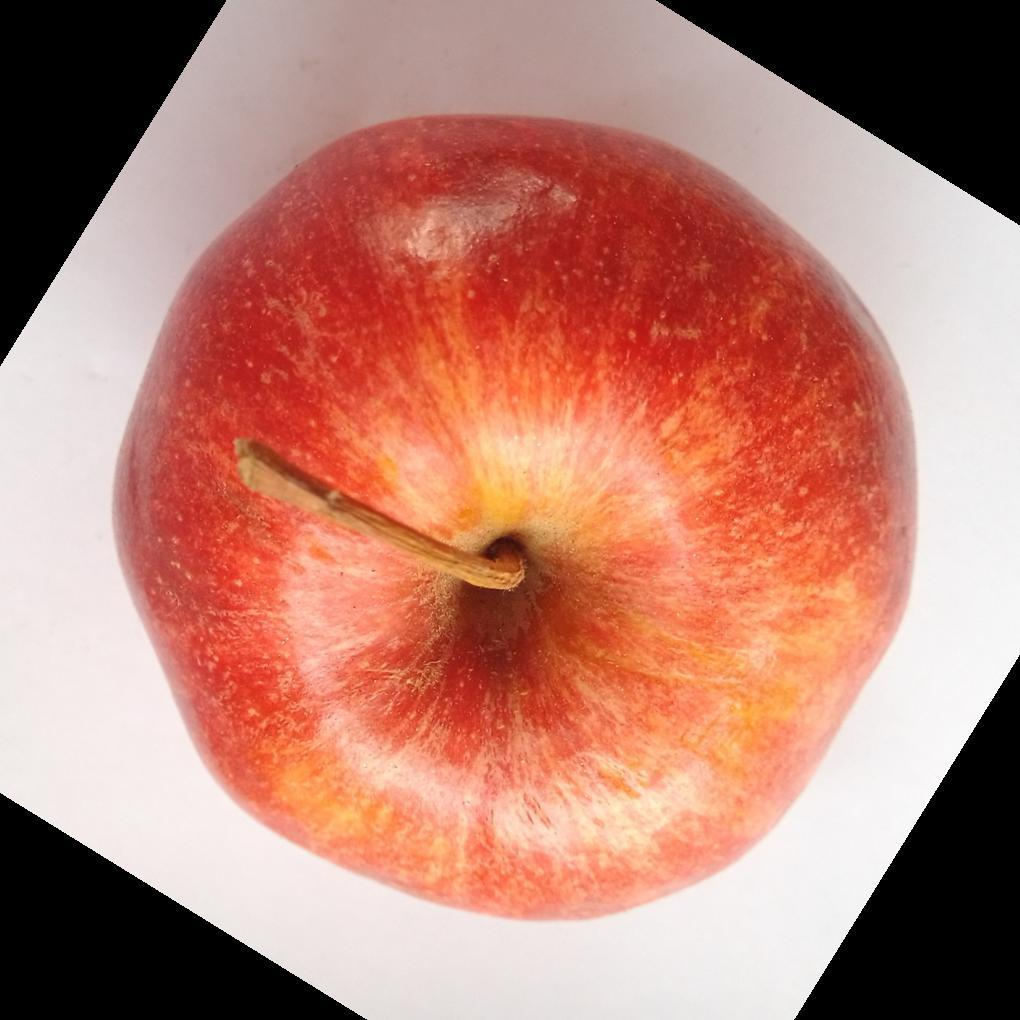FreshGuava: (110, 115, 919, 928)
